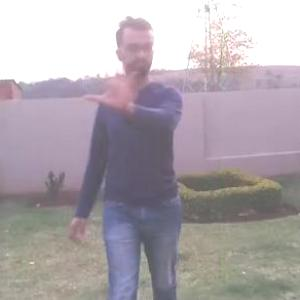follow_hand: (81, 52, 146, 113)
